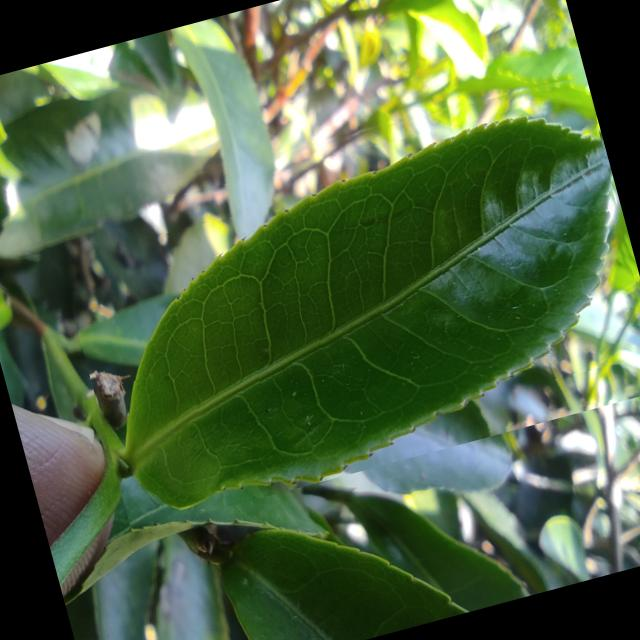Category C(4-7 days): (45, 66, 640, 532)
